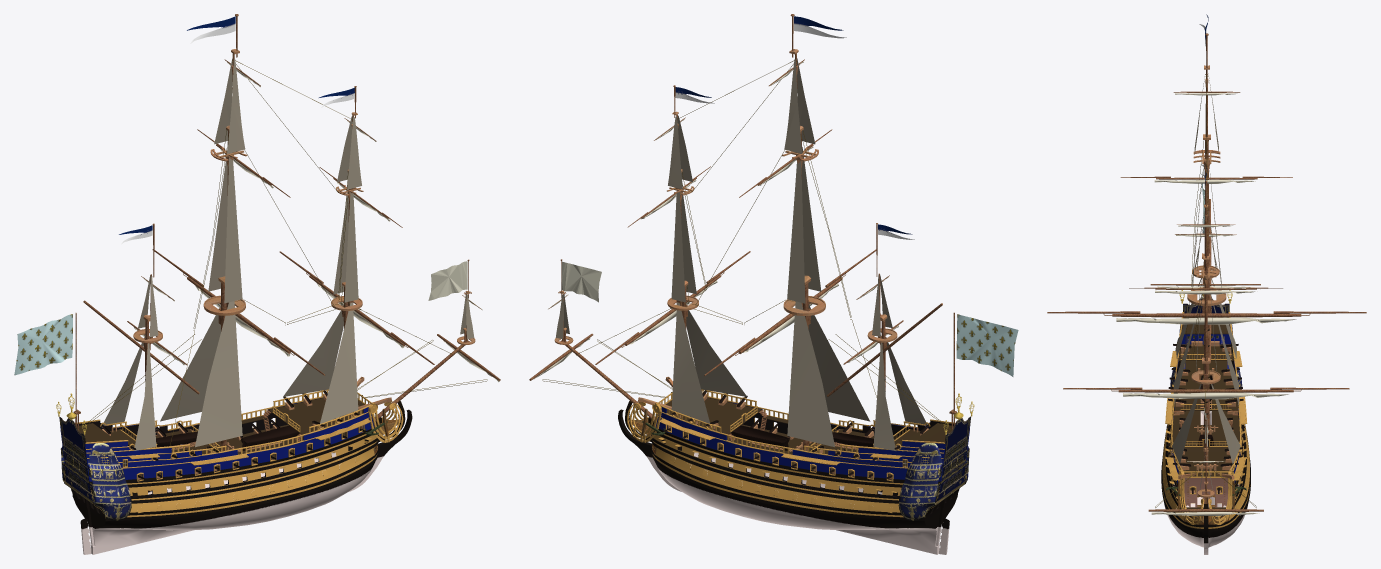
Rendered from Solegold.FBX.
3 views of the same model, side by side, from view 1: azimuth 30°, elevation 25°; view 2: azimuth 150°, elevation 25°; view 3: azimuth 270°, elevation 25° (orthographic). The views are drawn at different scales.
Parts seen in each view (by area): view 1: SOLEGOLD; view 2: SOLEGOLD; view 3: SOLEGOLD.
Boxes of the visible parts, x1,y1,x2,y2 form: SOLEGOLD: [14, 14, 500, 554]; SOLEGOLD: [529, 14, 1018, 554]; SOLEGOLD: [1047, 14, 1366, 554].
Bounding box in the file's own units: 2214 × 2320 × 1433.
